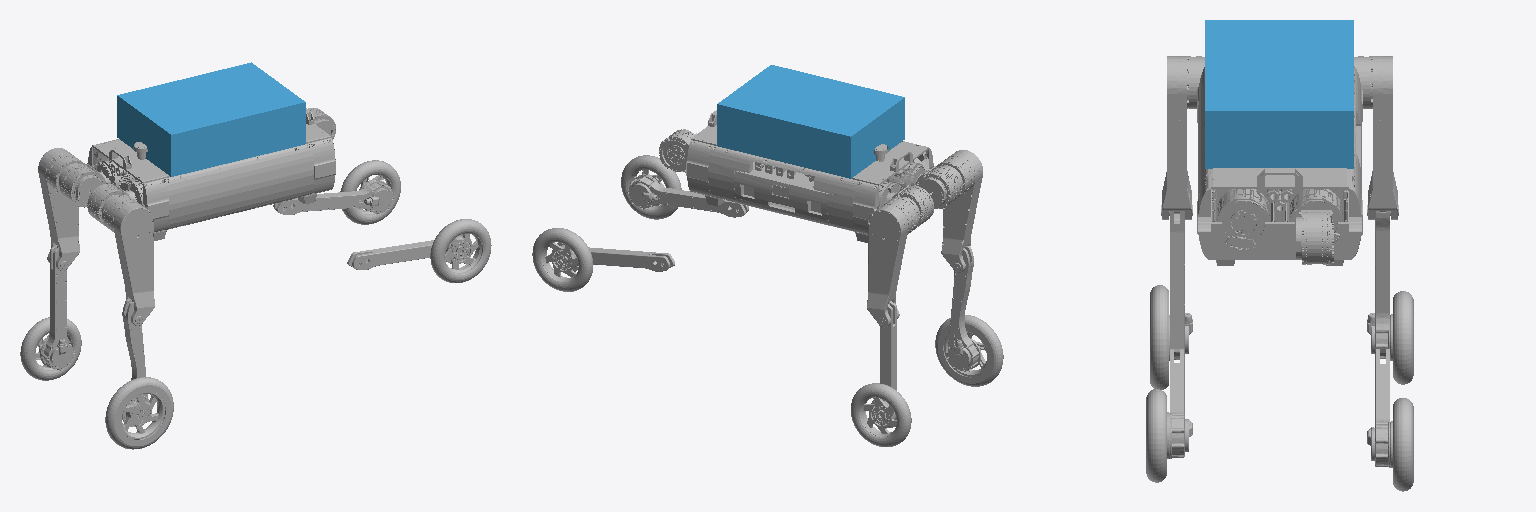
robot.urdf — nezha:
<?xml version='1.0' encoding='utf-8'?>
<robot name="nezha">
  <link name="trunk">
    <inertial>
      <origin xyz="-0.00000691 -0.00000693 -0.00000186" rpy="0 0 0" />
      <mass value="37.6" />
      <inertia ixx="0.59007413" ixy="0.0026156" ixz="0.004971" iyy="1.98506693" iyz="0.021971" izz="2.344962" />
    </inertial>
    <visual>
      <origin xyz="0 0 0" rpy="0 0 0" />
      <geometry>
        <mesh filename="../meshes/trunk.STL" />
      </geometry>
      <material name="">
        <color rgba="0.75294 0.75294 0.75294 1" />
      </material>
    </visual>
    <collision>
      <origin xyz="0.048 -0.027 0.01" rpy="0 0 0" />
      <geometry>
        <box size="1.121 0.390 0.27" />
      </geometry>
    </collision>
  </link>
  <link name="top_box">
    <inertial>
      <origin xyz="0 0 0.14" rpy="0 0 0" />
      <mass value="0.0" />
      <inertia ixx="0.3404" ixy="0.0" ixz="0.0" iyy="0.5479" iyz="0.0" izz="0.6906" />
    </inertial>
    <visual>
      <origin xyz="0 0 0" rpy="0 0 0" />
      <geometry>
        <box size="0.5 0.35 0.15" />
      </geometry>
    </visual>
    <collision>
      <origin xyz="0 0 0.05" rpy="0 0 0" />
      <geometry>
        <box size="0.5 0.35 0.08" />
      </geometry>
    </collision>
  </link>
  <joint name="box_to_trunk_joint" type="fixed">
    <parent link="trunk" />
    <child link="top_box" />
    <origin xyz="0 -0.03 0.17" rpy="0 0 0" />
  </joint>
  <link name="imu_fixed_link">
    <inertial>
      <origin xyz="-0.00353754349894037 4.2154628186554E-05 -0.00997114982725278" rpy="0 0 0" />
      <mass value="0.0406912140939172" />
      <inertia ixx="8.58656611098232E-06" ixy="1.44679601180708E-09" ixz="3.26182945796814E-08" iyy="6.09072078801729E-06" iyz="-7.38008178299839E-11" izz="1.19225496991543E-05" />
    </inertial>
    <visual>
      <origin xyz="0 0 0" rpy="0 0 0" />
      <geometry>
        <mesh filename="../meshes/imu_fixed_joint.STL" />
      </geometry>
    </visual>
  </link>
  <joint name="imu_fixed_joint" type="fixed">
    <origin xyz="0.00112019201975541 -0.0364882468746482 0.0510999999999999" rpy="0 0 0" />
    <parent link="trunk" />
    <child link="imu_fixed_link" />
    <axis xyz="0 0 0" />
  </joint>
  <link name="Lidar">
    <inertial>
      <origin xyz="-0.095072 0.0080005 0.014752" rpy="0 0 0" />
      <mass value="1" />
      <inertia ixx="0.0060381" ixy="2.708E-06" ixz="-0.00034005" iyy="0.0073655" iyz="6.2148E-07" izz="0.0031135" />
    </inertial>
    <visual>
      <origin xyz="0 0 0" rpy="0 0 0" />
      <geometry>
        <mesh filename="../meshes/Lidar.STL" />
      </geometry>
      <material name="">
        <color rgba="0.75294 0.75294 0.75294 1" />
      </material>
    </visual>
  </link>
  <joint name="Lidar_fixed_joint" type="fixed">
    <origin xyz="0.6019 -0.041631 0.032239" rpy="0 0 0" />
    <parent link="trunk" />
    <child link="Lidar" />
    <axis xyz="1 0 0" />
  </joint>
  <link name="FL_hip">
    <inertial>
      <origin xyz="-0.016427 0.0038854 2.206E-06" rpy="0 0 0" />
      <mass value="3.1" />
      <inertia ixx="0.00586263" ixy="0.00040875" ixz="-3.064E-05" iyy="0.00941998" iyz="2.4E-07" izz="0.00823554" />
    </inertial>
    <visual>
      <origin xyz="0 0 0" rpy="0 0 0" />
      <geometry>
        <mesh filename="../meshes/FL_hip.STL" />
      </geometry>
      <material name="">
        <color rgba="0.75294 0.75294 0.75294 1" />
      </material>
    </visual>
  </link>
  <joint name="FL_hip_joint" type="revolute">
    <origin xyz="0.43304 0.056588 0.00014972" rpy="0 0 0" />
    <parent link="trunk" />
    <child link="FL_hip" />
    <axis xyz="1 0 0" />
    <dynamics damping="0.05" friction="0.01" />
    <limit lower="-1.31" upper="0.81" effort="150" velocity="12" />
  </joint>
  <link name="FL_thigh">
    <inertial>
      <origin xyz="-0.0051952 0.00015428 -0.092972" rpy="0 0 0" />
      <mass value="4.1" />
      <inertia ixx="0.07198856" ixy="-5.6758E-04" ixz="0.00301969" iyy="0.06899899" iyz="-0.00892753" izz="0.01143578" />
    </inertial>
    <visual>
      <origin xyz="0 0 0" rpy="0 0 0" />
      <geometry>
        <mesh filename="../meshes/FL_thigh.STL" />
      </geometry>
      <material name="">
        <color rgba="0.75294 0.75294 0.75294 1" />
      </material>
    </visual>
  </link>
  <joint name="FL_thigh_joint" type="revolute">
    <origin xyz="0 0.1324 0" rpy="0 0 0" />
    <parent link="FL_hip" />
    <child link="FL_thigh" />
    <axis xyz="0 1 0" />
    <dynamics damping="0.05" friction="0.01" />
    <limit lower="-1.5" upper="2.6" effort="150" velocity="12" />
  </joint>
  <link name="FL_calf">
    <inertial>
      <origin xyz="-0.00045097 -0.010664 -0.14659" rpy="0 0 0" />
      <mass value="0.8" />
      <inertia ixx="0.01454306" ixy="1.8E-07" ixz="8.077E-05" iyy="0.01488481" iyz="-0.00016534" izz="0.00041348" />
    </inertial>
    <visual>
      <origin xyz="0 0 0" rpy="0 0 0" />
      <geometry>
        <mesh filename="../meshes/FL_calf.STL" />
      </geometry>
      <material name="">
        <color rgba="0.75294 0.75294 0.75294 1" />
      </material>
    </visual>
    <collision>
      <origin xyz="0 -0.0 -0.170" rpy="0 0 0" />
      <geometry>
        <box size="0.05 0.045 0.390" />
      </geometry>
    </collision>
  </link>
  <joint name="FL_calf_joint" type="revolute">
    <origin xyz="0 0.0241 -0.33" rpy="0 0 0" />
    <parent link="FL_thigh" />
    <child link="FL_calf" />
    <axis xyz="0 1 0" />
    <dynamics damping="0.05" friction="0.01" />
    <limit lower="-2.3" upper="-0.52" effort="225" velocity="8" />
  </joint>
  <link name="FL_footmotor">
    <inertial>
      <origin xyz="-3.0983E-07 0.037959 0.0077964" rpy="0 0 0" />
      <mass value="1" />
      <inertia ixx="0.00122551" ixy="1.0E-08" ixz="8.9E-07" iyy="0.00121122" iyz="-0.00011534" izz="0.00111829" />
    </inertial>
    <visual>
      <origin xyz="0 0 0" rpy="0 0 0" />
      <geometry>
        <mesh filename="../meshes/FL_footmotor.STL" />
      </geometry>
      <material name="">
        <color rgba="0.75294 0.75294 0.75294 1" />
      </material>
    </visual>
  </link>
  <joint name="FL_footmotor_fixed" type="fixed">
    <origin xyz="0 -0.019084 -0.3352" rpy="0 0 0" />
    <parent link="FL_calf" />
    <child link="FL_footmotor" />
    <axis xyz="0 0 0" />
  </joint>
  <link name="FL_foot">
    <inertial>
      <origin xyz="2.5253E-10 -0.00082202 -5.8039E-08" rpy="0 0 0" />
      <mass value="0.8" />
      <inertia ixx="0.00322619" ixy="0.0" ixz="0.0" iyy="0.00620216" iyz="0.0" izz="0.00322620" />
    </inertial>
    <visual>
      <origin xyz="0 0 0" rpy="0 0 0" />
      <geometry>
        <mesh filename="../meshes/FL_foot.STL" />
      </geometry>
      <material name="">
        <color rgba="0.75294 0.75294 0.75294 1" />
      </material>
    </visual>
    <collision>
      <origin xyz="0 0.0 0" rpy="1.5707963267948966 0 0" />
      <geometry>
        <cylinder length="0.040" radius="0.105" />
      </geometry>
    </collision>
  </link>
  <joint name="FL_foot_joint" type="revolute">
    <origin xyz="0 0.067334 0.0052008" rpy="0 0 0" />
    <parent link="FL_footmotor" />
    <child link="FL_foot" />
    <axis xyz="0 1 0" />
    <dynamics friction="1.0" />
    <limit lower="-9999" upper="9999" effort="56" velocity="47" />
  </joint>
  <link name="FR_hip">
    <inertial>
      <origin xyz="-0.016427 -0.0038854 -2.206E-06" rpy="0 0 0" />
      <mass value="3.1" />
      <inertia ixx="0.00586263" ixy="-0.00040875" ixz="3.064E-05" iyy="0.00941998" iyz="-2.4E-07" izz="0.00823554" />
    </inertial>
    <visual>
      <origin xyz="0 0 0" rpy="0 0 0" />
      <geometry>
        <mesh filename="../meshes/FR_hip.STL" />
      </geometry>
      <material name="">
        <color rgba="0.75294 0.75294 0.75294 1" />
      </material>
    </visual>
  </link>
  <joint name="FR_hip_joint" type="revolute">
    <origin xyz="0.43304 -0.11341 0.00014972" rpy="0 0 0" />
    <parent link="trunk" />
    <child link="FR_hip" />
    <axis xyz="1 0 0" />
    <dynamics damping="0.05" friction="0.01" />
    <limit lower="-0.8" upper="1.3" effort="150" velocity="12" />
  </joint>
  <link name="FR_thigh">
    <inertial>
      <origin xyz="-0.0055271 -0.00015362 -0.092992" rpy="0 0 0" />
      <mass value="4.1" />
      <inertia ixx="0.07200998" ixy="0.00045575" ixz="0.00288100" iyy="0.06900584" iyz="0.00892980" izz="0.01142712" />
    </inertial>
    <visual>
      <origin xyz="0 0 0" rpy="0 0 0" />
      <geometry>
        <mesh filename="../meshes/FR_thigh.STL" />
      </geometry>
      <material name="">
        <color rgba="0.75294 0.75294 0.75294 1" />
      </material>
    </visual>
  </link>
  <joint name="FR_thigh_joint" type="revolute">
    <origin xyz="0 -0.1324 0" rpy="0 0 0" />
    <parent link="FR_hip" />
    <child link="FR_thigh" />
    <axis xyz="0 1 0" />
    <dynamics damping="0.05" friction="0.01" />
    <limit lower="-1.6" upper="2.6" effort="150" velocity="12" />
  </joint>
  <link name="FR_calf">
    <inertial>
      <origin xyz="-0.00040423 -0.0007071 -0.14806" rpy="0 0 0" />
      <mass value="0.8" />
      <inertia ixx="0.01454129" ixy="-5.5E-07" ixz="-6.627E-05" iyy="0.01478402" iyz="9.312E-05" izz="0.00049281" />
    </inertial>
    <visual>
      <origin xyz="0 0 0" rpy="0 0 0" />
      <geometry>
        <mesh filename="../meshes/FR_calf.STL" />
      </geometry>
      <material name="">
        <color rgba="0.75294 0.75294 0.75294 1" />
      </material>
    </visual>
    <collision>
      <origin xyz="0 0.0 -0.170" rpy="0 0 0" />
      <geometry>
        <box size="0.05 0.045 0.390" />
      </geometry>
    </collision>
  </link>
  <joint name="FR_calf_joint" type="revolute">
    <origin xyz="0 -0.0241 -0.33" rpy="0 0 0" />
    <parent link="FR_thigh" />
    <child link="FR_calf" />
    <axis xyz="0 1 0" />
    <dynamics damping="0.05" friction="0.01" />
    <limit lower="-2.4" upper="-0.57" effort="225" velocity="8" />
  </joint>
  <link name="FR_footmotor">
    <inertial>
      <origin xyz="3.0956E-07 -0.037959 0.0077964" rpy="0 0 0" />
      <mass value="1" />
      <inertia ixx="0.00122551" ixy="1.0E-08" ixz="-8.9E-07" iyy="0.00121122" iyz="0.00011534" izz="0.00111829" />
    </inertial>
    <visual>
      <origin xyz="0 0 0" rpy="0 0 0" />
      <geometry>
        <mesh filename="../meshes/FR_footmotor.STL" />
      </geometry>
      <material name="">
        <color rgba="0.75294 0.75294 0.75294 1" />
      </material>
    </visual>
  </link>
  <joint name="FR_footmotor_fixed" type="fixed">
    <origin xyz="0 0.019084 -0.3352" rpy="0 0 0" />
    <parent link="FR_calf" />
    <child link="FR_footmotor" />
    <axis xyz="0 0 0" />
  </joint>
  <link name="FR_foot">
    <inertial>
      <origin xyz="-5.5178E-08 0.00082201 1.8207E-08" rpy="0 0 0" />
      <mass value="0.8" />
      <inertia ixx="0.00322619" ixy="0.0" ixz="0.0" iyy="0.00620216" iyz="0.0" izz="0.00322620" />
    </inertial>
    <visual>
      <origin xyz="0 0 0" rpy="0 0 0" />
      <geometry>
        <mesh filename="../meshes/FR_foot.STL" />
      </geometry>
      <material name="">
        <color rgba="0.75294 0.75294 0.75294 1" />
      </material>
    </visual>
    <collision>
      <origin xyz="0 -0.0 0" rpy="1.5707963267948966 0 0" />
      <geometry>
        <cylinder length="0.040" radius="0.105" />
      </geometry>
    </collision>
  </link>
  <joint name="FR_foot_joint" type="revolute">
    <origin xyz="0 -0.067334 0.0052008" rpy="0 0 0" />
    <parent link="FR_footmotor" />
    <child link="FR_foot" />
    <axis xyz="0 1 0" />
    <dynamics friction="1.0" />
    <limit lower="-9999" upper="9999" effort="56" velocity="47" />
  </joint>
  <link name="RL_hip">
    <inertial>
      <origin xyz="0.016427 0.0038854 -2.206E-06" rpy="0 0 0" />
      <mass value="3.1" />
      <inertia ixx="0.00586263" ixy="-0.00040875" ixz="-0.00003064" iyy="0.00941998" iyz="0.00000024" izz="0.00823554" />
    </inertial>
    <visual>
      <origin xyz="0 0 0" rpy="0 0 0" />
      <geometry>
        <mesh filename="../meshes/RL_hip.STL" />
      </geometry>
      <material name="">
        <color rgba="0.75294 0.75294 0.75294 1" />
      </material>
    </visual>
  </link>
  <joint name="RL_hip_joint" type="revolute">
    <origin xyz="-0.42896 0.056588 0.00014972" rpy="0 0 0" />
    <parent link="trunk" />
    <child link="RL_hip" />
    <axis xyz="1 0 0" />
    <dynamics damping="0.05" friction="0.01" />
    <limit lower="-1.51" upper="0.8" effort="150" velocity="12" />
  </joint>
  <link name="RL_thigh">
    <inertial>
      <origin xyz="0.0055271 0.00015362 -0.092992" rpy="0 0 0" />
      <mass value="4.1" />
      <inertia ixx="0.07200998" ixy="0.00045575" ixz="-0.00288100" iyy="0.06900584" iyz="-0.00892980" izz="0.01142712" />
    </inertial>
    <visual>
      <origin xyz="0 0 0" rpy="0 0 0" />
      <geometry>
        <mesh filename="../meshes/RL_thigh.STL" />
      </geometry>
      <material name="">
        <color rgba="0.75294 0.75294 0.75294 1" />
      </material>
    </visual>
  </link>
  <joint name="RL_thigh_joint" type="revolute">
    <origin xyz="0 0.1324 0" rpy="0 0 0" />
    <parent link="RL_hip" />
    <child link="RL_thigh" />
    <axis xyz="0 1 0" />
    <dynamics damping="0.05" friction="0.01" />
    <limit lower="-1.6" upper="2.6" effort="150" velocity="12" />
  </joint>
  <link name="RL_calf">
    <inertial>
      <origin xyz="0.00040423 0.0007071 -0.14806" rpy="0 0 0" />
      <mass value="0.8" />
      <inertia ixx="0.01454129" ixy="-0.00000055" ixz="0.00006627" iyy="0.01478402" iyz="-0.00009312" izz="0.00049821" />
    </inertial>
    <visual>
      <origin xyz="0 0 0" rpy="0 0 0" />
      <geometry>
        <mesh filename="../meshes/RL_calf.STL" />
      </geometry>
      <material name="">
        <color rgba="0.75294 0.75294 0.75294 1" />
      </material>
    </visual>
    <collision>
      <origin xyz="0 -0.0 -0.170" rpy="0 0 0" />
      <geometry>
        <box size="0.05 0.045 0.390" />
      </geometry>
    </collision>
  </link>
  <joint name="RL_calf_joint" type="revolute">
    <origin xyz="0 0.0241 -0.33" rpy="0 0 0" />
    <parent link="RL_thigh" />
    <child link="RL_calf" />
    <axis xyz="0 1 0" />
    <dynamics damping="0.05" friction="0.01" />
    <limit lower="-2.6" upper="0.57" effort="225" velocity="8" />
  </joint>
  <link name="RL_footmotor">
    <inertial>
      <origin xyz="-3.0956E-07 0.037959 0.0077964" rpy="0 0 0" />
      <mass value="1" />
      <inertia ixx="0.00122551" ixy="0.00000001" ixz="0.00000089" iyy="0.00121122" iyz="-0.00011534" izz="0.00111829" />
    </inertial>
    <visual>
      <origin xyz="0 0 0" rpy="0 0 0" />
      <geometry>
        <mesh filename="../meshes/RL_footmotor.STL" />
      </geometry>
      <material name="">
        <color rgba="0.75294 0.75294 0.75294 1" />
      </material>
    </visual>
  </link>
  <joint name="RL_footmotor_fixed" type="fixed">
    <origin xyz="0 -0.019084 -0.3352" rpy="0 0 0" />
    <parent link="RL_calf" />
    <child link="RL_footmotor" />
    <axis xyz="0 0 0" />
  </joint>
  <link name="RL_foot">
    <inertial>
      <origin xyz="5.5207E-08 -0.00082201 1.8119E-08" rpy="0 0 0" />
      <mass value="0.8" />
      <inertia ixx="0.00322619" ixy="0.0" ixz="0.0" iyy="0.00620216" iyz="0.0" izz="0.00322620" />
    </inertial>
    <visual>
      <origin xyz="0 0 0" rpy="0 0 0" />
      <geometry>
        <mesh filename="../meshes/RL_foot.STL" />
      </geometry>
      <material name="">
        <color rgba="0.75294 0.75294 0.75294 1" />
      </material>
    </visual>
    <collision>
      <origin xyz="0 0.0 0" rpy="1.5707963267948966 0 0" />
      <geometry>
        <cylinder length="0.040" radius="0.105" />
      </geometry>
    </collision>
  </link>
  <joint name="RL_foot_joint" type="revolute">
    <origin xyz="0 0.067334 0.0052008" rpy="0 0 0" />
    <parent link="RL_footmotor" />
    <child link="RL_foot" />
    <axis xyz="0 1 0" />
    <dynamics friction="1.0" />
    <limit lower="-9999" upper="9999" effort="56" velocity="47" />
  </joint>
  <link name="RR_hip">
    <inertial>
      <origin xyz="0.016427 -0.0038854 2.2056E-06" rpy="0 0 0" />
      <mass value="3.1" />
      <inertia ixx="0.00586263" ixy="0.00040875" ixz="0.00003064" iyy="0.00941998" iyz="0.00000024" izz="0.00823554" />
    </inertial>
    <visual>
      <origin xyz="0 0 0" rpy="0 0 0" />
      <geometry>
        <mesh filename="../meshes/RR_hip.STL" />
      </geometry>
      <material name="">
        <color rgba="0.75294 0.75294 0.75294 1" />
      </material>
    </visual>
  </link>
  <joint name="RR_hip_joint" type="revolute">
    <origin xyz="-0.42896 -0.11341 0.00014972" rpy="0 0 0" />
    <parent link="trunk" />
    <child link="RR_hip" />
    <axis xyz="1 0 0" />
    <dynamics damping="0.05" friction="0.01" />
    <limit lower="-1.58" upper="0.79" effort="150" velocity="12" />
  </joint>
  <link name="RR_thigh">
    <inertial>
      <origin xyz="0.0051952 -0.00015428 -0.092972" rpy="0 0 0" />
      <mass value="4.1" />
      <inertia ixx="0.07198856" ixy="-0.00056758" ixz="-0.00301968" iyy="0.06899899" iyz="0.00892753" izz="0.01143578" />
    </inertial>
    <visual>
      <origin xyz="0 0 0" rpy="0 0 0" />
      <geometry>
        <mesh filename="../meshes/RR_thigh.STL" />
      </geometry>
      <material name="">
        <color rgba="0.75294 0.75294 0.75294 1" />
      </material>
    </visual>
  </link>
  <joint name="RR_thigh_joint" type="revolute">
    <origin xyz="0 -0.1324 0" rpy="0 0 0" />
    <parent link="RR_hip" />
    <child link="RR_thigh" />
    <axis xyz="0 1 0" />
    <dynamics damping="0.05" friction="0.01" />
    <limit lower="-1.6" upper="2.6" effort="150" velocity="12" />
  </joint>
  <link name="RR_calf">
    <inertial>
      <origin xyz="0.00045097 0.010664 -0.14659" rpy="0 0 0" />
      <mass value="0.8" />
      <inertia ixx="0.01454306" ixy="0.00000018" ixz="0.00008077" iyy="0.01488481" iyz="0.00016534" izz="0.00041348" />
    </inertial>
    <visual>
      <origin xyz="0 0 0" rpy="0 0 0" />
      <geometry>
        <mesh filename="../meshes/RR_calf.STL" />
      </geometry>
      <material name="">
        <color rgba="0.75294 0.75294 0.75294 1" />
      </material>
    </visual>
    <collision>
      <origin xyz="0 0.0 -0.170" rpy="0 0 0" />
      <geometry>
        <box size="0.05 0.045 0.390" />
      </geometry>
    </collision>
  </link>
  <joint name="RR_calf_joint" type="revolute">
    <origin xyz="0 -0.0241 -0.33" rpy="0 0 0" />
    <parent link="RR_thigh" />
    <child link="RR_calf" />
    <axis xyz="0 1 0" />
    <dynamics damping="0.05" friction="0.01" />
    <limit lower="-2.6" upper="0.57" effort="225" velocity="8" />
  </joint>
  <link name="RR_footmotor">
    <inertial>
      <origin xyz="3.0956E-07 -0.037959 0.0077964" rpy="0 0 0" />
      <mass value="1" />
      <inertia ixx="0.00122551" ixy="0.00000001" ixz="-0.00000089" iyy="0.00121122" iyz="0.00011534" izz="0.00111829" />
    </inertial>
    <visual>
      <origin xyz="0 0 0" rpy="0 0 0" />
      <geometry>
        <mesh filename="../meshes/RR_footmotor.STL" />
      </geometry>
      <material name="">
        <color rgba="0.75294 0.75294 0.75294 1" />
      </material>
    </visual>
  </link>
  <joint name="RR_footmotor_fixed" type="fixed">
    <origin xyz="0 0.019084 -0.3352" rpy="0 0 0" />
    <parent link="RR_calf" />
    <child link="RR_footmotor" />
    <axis xyz="0 0 0" />
  </joint>
  <link name="RR_foot">
    <inertial>
      <origin xyz="5.6617E-08 0.00082201 -1.3061E-08" rpy="0 0 0" />
      <mass value="0.8" />
      <inertia ixx="0.00322619" ixy="0.0" ixz="0.0" iyy="0.00620216" iyz="0.0" izz="0.00322620" />
    </inertial>
    <visual>
      <origin xyz="0 0 0" rpy="0 0 0" />
      <geometry>
        <mesh filename="../meshes/RR_foot.STL" />
      </geometry>
      <material name="">
        <color rgba="0.75294 0.75294 0.75294 1" />
      </material>
    </visual>
    <collision>
      <origin xyz="0 -0.0 0" rpy="1.5707963267948966 0 0" />
      <geometry>
        <cylinder length="0.040" radius="0.105" />
      </geometry>
    </collision>
  </link>
  <joint name="RR_foot_joint" type="revolute">
    <origin xyz="0 -0.067334 0.0052008" rpy="0 0 0" />
    <parent link="RR_footmotor" />
    <child link="RR_foot" />
    <axis xyz="0 1 0" />
    <dynamics friction="1.0" />
    <limit lower="-9999" upper="9999" effort="56" velocity="47" />
  </joint>
</robot>

--- Facts derived from the render (not from the file) ---
The picture shows the robot from 3 angles, left to right: view 1: azimuth 30°, elevation 25°; view 2: azimuth 150°, elevation 25°; view 3: azimuth 270°, elevation 25°; orthographic projection.
Model nezha with 24 links and 23 joints (16 revolute, 7 fixed), rooted at trunk, posed joints at zero except 2 at the middle of their limits (FL_calf_joint = -1.41, FR_calf_joint = -1.49).
Links seen in each view (by area): view 1: top_box, trunk, RR_thigh, RR_foot, RL_thigh, FR_foot, FL_foot, RL_foot, RL_calf, FL_calf, FR_calf, RL_hip (+2 smaller); view 2: top_box, trunk, RL_thigh, RR_thigh, RL_foot, FL_foot, RR_foot, RR_calf, FR_foot, FR_calf, FL_calf, RR_hip (+3 smaller); view 3: top_box, trunk, RR_thigh, RL_thigh, RL_calf, RR_calf, FL_hip, RR_foot, FR_foot, RL_foot, FL_foot, FL_calf (+1 smaller).
Link boxes in pixels (bbox=[...]): top_box: bbox=[117, 62, 305, 176]; trunk: bbox=[87, 108, 335, 240]; RR_thigh: bbox=[101, 195, 154, 325]; RR_foot: bbox=[105, 377, 173, 449]; RL_thigh: bbox=[38, 148, 85, 270]; FR_foot: bbox=[430, 219, 491, 282]; FL_foot: bbox=[340, 160, 400, 224]; RL_foot: bbox=[20, 317, 81, 380]; RL_calf: bbox=[41, 245, 74, 370]; FL_calf: bbox=[273, 181, 393, 214]; FR_calf: bbox=[347, 240, 433, 269]; RL_hip: bbox=[60, 164, 110, 207]; top_box: bbox=[717, 65, 904, 178]; trunk: bbox=[686, 110, 933, 242]; RL_thigh: bbox=[867, 196, 919, 327]; RR_thigh: bbox=[936, 150, 982, 272]; RL_foot: bbox=[851, 383, 911, 446]; FL_foot: bbox=[532, 228, 592, 291]; RR_foot: bbox=[935, 315, 1003, 386]; RR_calf: bbox=[947, 246, 978, 371]; FR_foot: bbox=[621, 155, 681, 219]; FR_calf: bbox=[627, 175, 748, 217]; FL_calf: bbox=[589, 247, 674, 271]; RR_hip: bbox=[911, 166, 961, 208]; top_box: bbox=[1205, 20, 1353, 168]; trunk: bbox=[1197, 66, 1362, 265]; RR_thigh: bbox=[1161, 56, 1204, 219]; RL_thigh: bbox=[1354, 56, 1398, 219]; RL_calf: bbox=[1375, 211, 1389, 358]; RR_calf: bbox=[1170, 211, 1184, 359]; FL_hip: bbox=[1296, 210, 1333, 264]; RR_foot: bbox=[1150, 285, 1168, 389]; FR_foot: bbox=[1146, 389, 1166, 482]; RL_foot: bbox=[1393, 291, 1413, 384]; FL_foot: bbox=[1393, 398, 1413, 491]; FL_calf: bbox=[1375, 349, 1389, 467].
Size in the robot's own frame: 1.42 by 0.6277 by 1.03 metres.
Meshes: 23 distinct files referenced, 19 mesh visuals loaded (19 binary STL); not drawn: 4 (reference not matched to a file when rendering).
